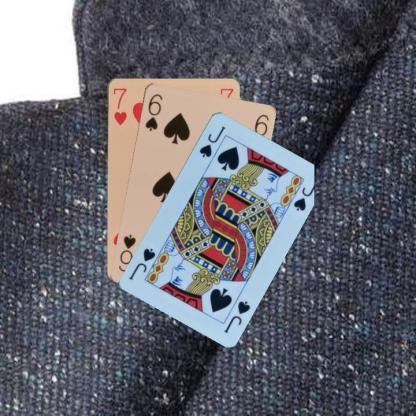6s: (142, 91, 164, 132)
7h: (110, 85, 128, 126)
Js: (222, 298, 252, 334), (197, 123, 227, 158)
